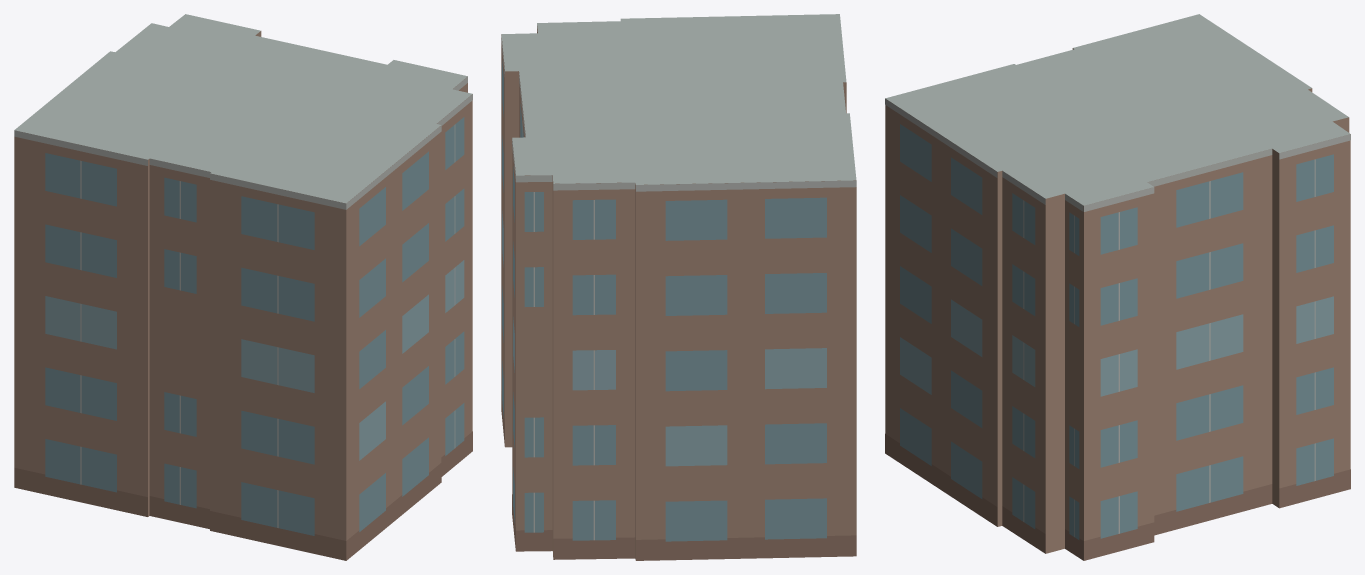
File: survey-upis-32836491.glb
3 renders of one model, left to right at view 1: azimuth 30°, elevation 25°; view 2: azimuth 150°, elevation 25°; view 3: azimuth 270°, elevation 25°, orthographic. The views are drawn at different scales.
Parts seen in each view (by area): view 1: survey-upis-32836491.tmp; view 2: survey-upis-32836491.tmp; view 3: survey-upis-32836491.tmp.
Boxes of the visible parts, box(x1,y1,x2,y2) form: survey-upis-32836491.tmp: box(14, 14, 472, 560); survey-upis-32836491.tmp: box(501, 14, 856, 560); survey-upis-32836491.tmp: box(885, 14, 1350, 560).
Bounding box in the file's own units: 15.77 × 13.6 × 16.17.
